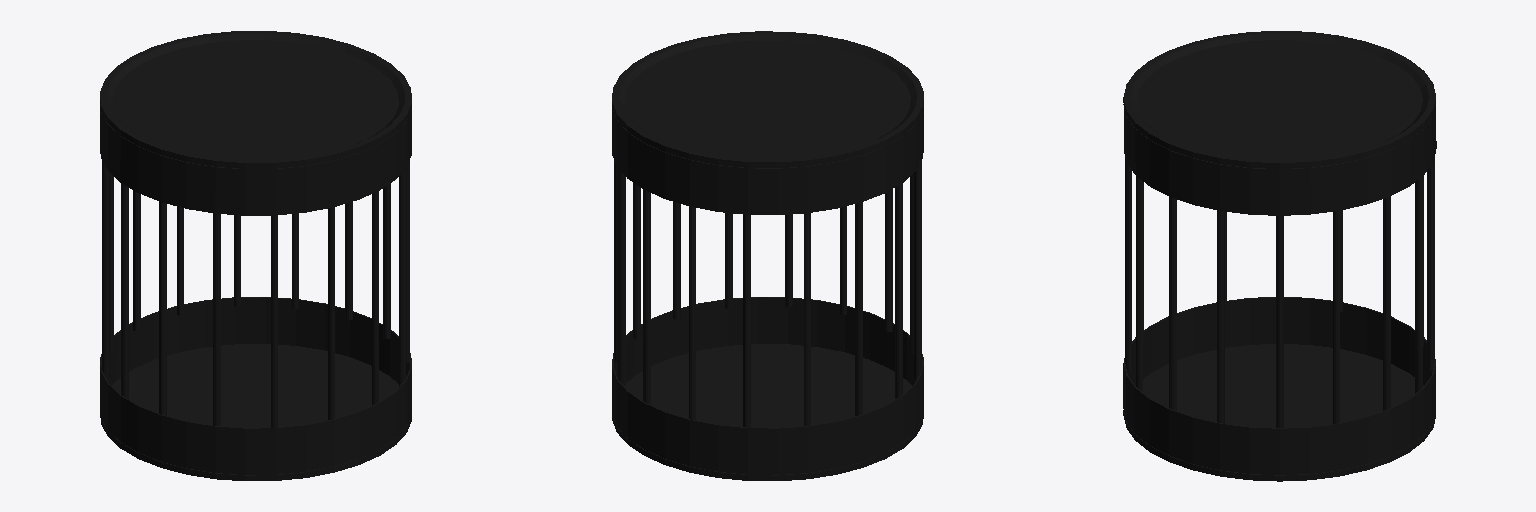
3 views of the same model, side by side, from view 1: azimuth 30°, elevation 25°; view 2: azimuth 150°, elevation 25°; view 3: azimuth 270°, elevation 25° (orthographic).
Parts seen in each view (by area): view 1: Cylinder001, Cylinder, Cylinder_016, Cylinder_008, Cylinder_005, Cylinder_013, Cylinder_012, Cylinder_004, Cylinder_015, Cylinder_007, Cylinder_003, Cylinder_017 (+6 smaller); view 2: Cylinder001, Cylinder, Cylinder_017, Cylinder_013, Cylinder_010, Cylinder_005, Cylinder_006, Cylinder_016, Cylinder_009, Cylinder_002, Cylinder_003, Cylinder_012 (+6 smaller); view 3: Cylinder001, Cylinder, Cylinder_006, Cylinder_011, Cylinder_003, Cylinder_010, Cylinder_007, Cylinder_002, Cylinder_014, Cylinder_015, Cylinder_004.
Boxes of the visible parts, <box> form: Cylinder001: <box>100,31,411,215</box>; Cylinder: <box>100,297,411,480</box>; Cylinder_016: <box>159,202,166,415</box>; Cylinder_008: <box>213,213,220,425</box>; Cylinder_005: <box>121,183,128,398</box>; Cylinder_013: <box>102,161,109,378</box>; Cylinder_012: <box>271,215,277,427</box>; Cylinder_004: <box>328,207,334,419</box>; Cylinder_015: <box>372,191,378,404</box>; Cylinder_007: <box>399,169,405,386</box>; Cylinder_003: <box>383,183,390,338</box>; Cylinder_017: <box>133,190,140,331</box>; Cylinder001: <box>612,31,923,214</box>; Cylinder: <box>612,297,923,480</box>; Cylinder_017: <box>743,214,750,427</box>; Cylinder_013: <box>855,202,862,415</box>; Cylinder_010: <box>643,189,650,404</box>; Cylinder_005: <box>895,183,902,398</box>; Cylinder_006: <box>618,169,625,385</box>; Cylinder_016: <box>914,161,921,379</box>; Cylinder_009: <box>804,213,810,425</box>; Cylinder_002: <box>689,207,695,419</box>; Cylinder_003: <box>633,183,640,338</box>; Cylinder_012: <box>885,189,892,331</box>; Cylinder001: <box>1123,31,1436,215</box>; Cylinder: <box>1123,297,1435,481</box>; Cylinder_006: <box>1383,196,1390,410</box>; Cylinder_011: <box>1217,210,1224,423</box>; Cylinder_003: <box>1276,216,1283,427</box>; Cylinder_010: <box>1415,176,1422,393</box>; Cylinder_007: <box>1169,197,1176,410</box>; Cylinder_002: <box>1427,158,1434,370</box>; Cylinder_014: <box>1333,211,1339,423</box>; Cylinder_015: <box>1136,176,1142,391</box>; Cylinder_004: <box>1125,158,1131,370</box>.
Bounding box in the file's own units: 52.43 × 58.97 × 52.45.
1 materials, 1 textured.